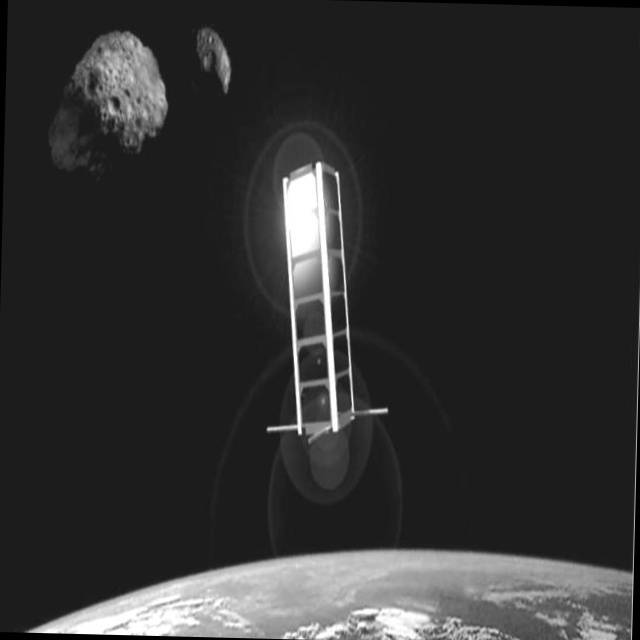medium_debris: (253, 144, 391, 458)
